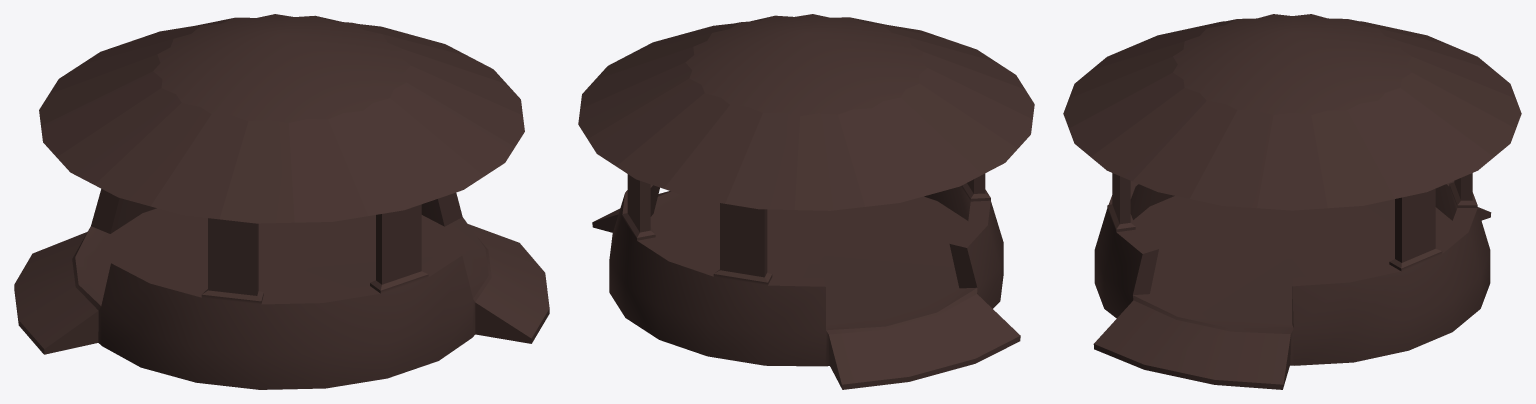
File: Gazebo.fbx
The picture shows the model from 3 angles, left to right: view 1: azimuth 30°, elevation 25°; view 2: azimuth 150°, elevation 25°; view 3: azimuth 270°, elevation 25°; orthographic projection. The views are drawn at different scales.
Parts seen in each view (by area): view 1: pCone1, pCylinder1; view 2: pCone1, pCylinder1; view 3: pCone1, pCylinder1.
Boxes of the visible parts, bbox=[...] form: pCone1: bbox=[39, 14, 524, 223]; pCylinder1: bbox=[14, 189, 549, 389]; pCone1: bbox=[578, 14, 1034, 210]; pCylinder1: bbox=[592, 173, 1020, 389]; pCone1: bbox=[1063, 14, 1521, 210]; pCylinder1: bbox=[1093, 173, 1491, 389].
Bounding box in the file's own units: 20.07 × 11 × 18.24.
